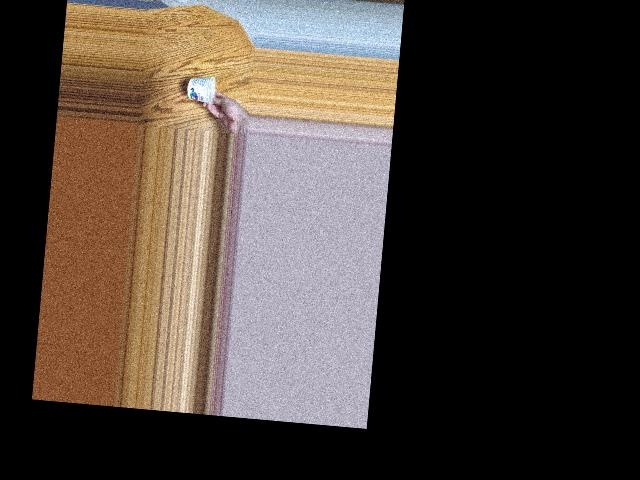cotage: (183, 67, 219, 102)
